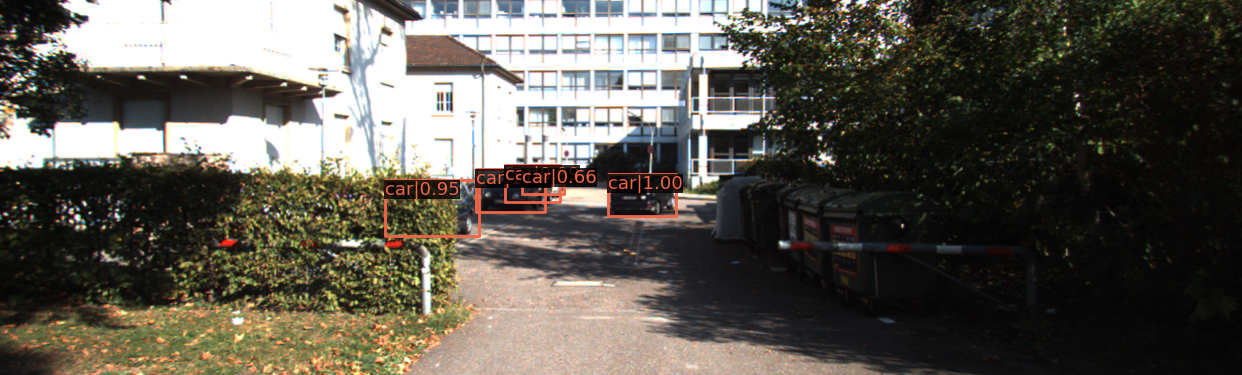car: (366, 173, 477, 243), (609, 175, 679, 216), (481, 173, 542, 214), (502, 166, 555, 209), (529, 172, 563, 199)
